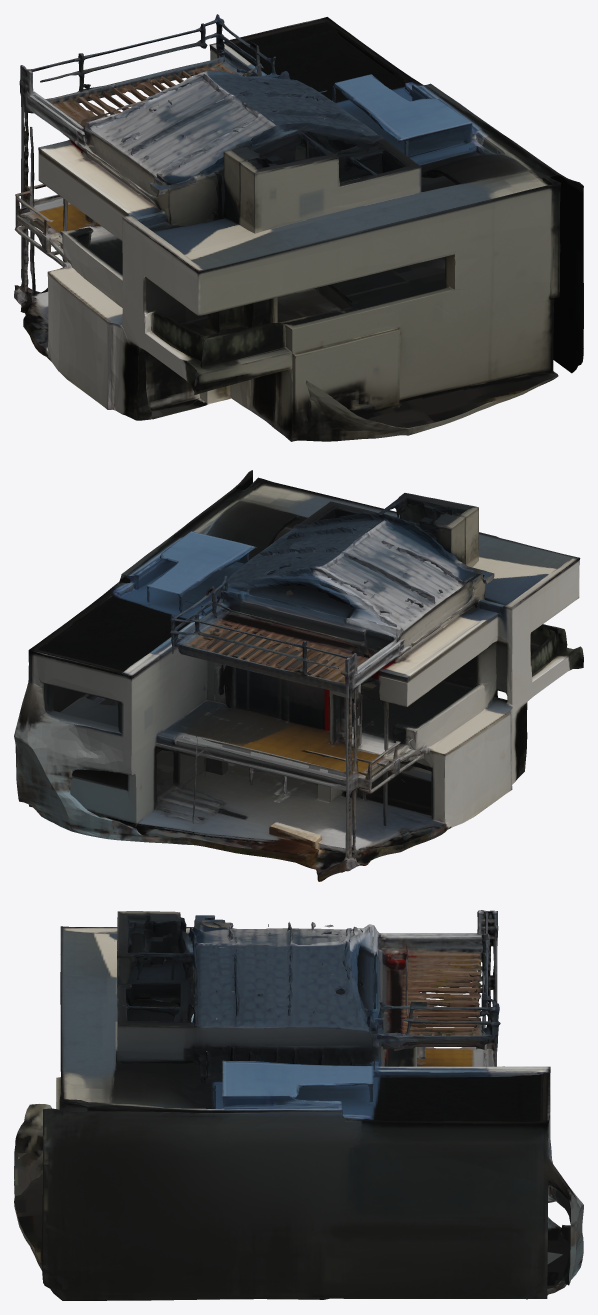
3 renders of one model, top to bottom at view 1: azimuth 30°, elevation 25°; view 2: azimuth 150°, elevation 25°; view 3: azimuth 270°, elevation 25°, orthographic. The views are drawn at different scales.
Parts seen in each view (by area): view 1: world; view 2: world; view 3: world.
Boxes of the visible parts, bbox=[...] form: world: bbox=[14, 14, 583, 441]; world: bbox=[14, 470, 583, 881]; world: bbox=[14, 910, 583, 1300].
Bounding box in the file's own units: 0.7722 × 0.5218 × 0.9969.
1 material, 1 textured.
